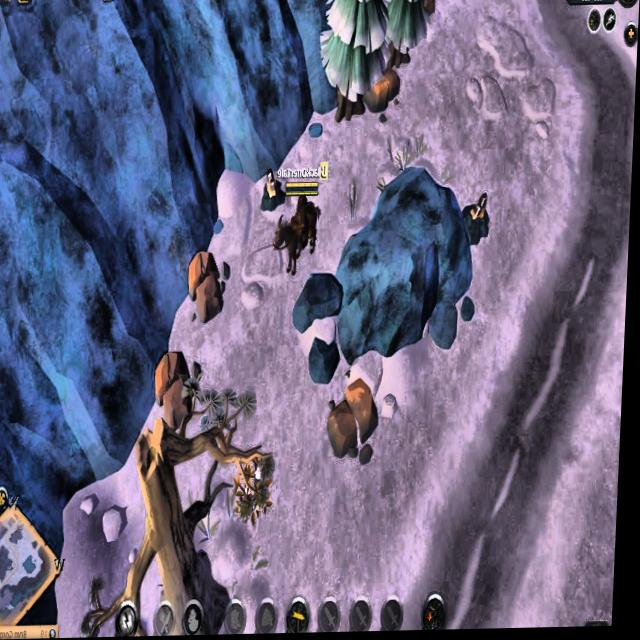copperore: (458, 191, 497, 252), (259, 162, 288, 215)
limestone: (329, 376, 389, 464), (155, 348, 202, 432), (188, 247, 236, 325), (363, 64, 404, 118)
